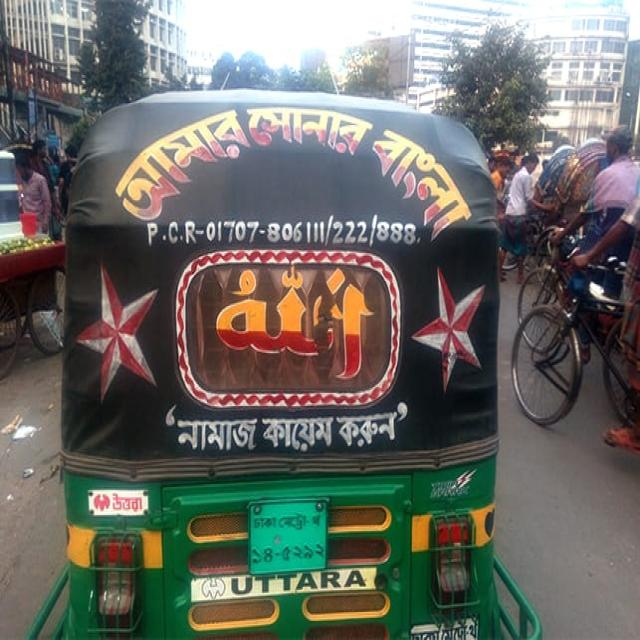CNG: (33, 92, 541, 640)
